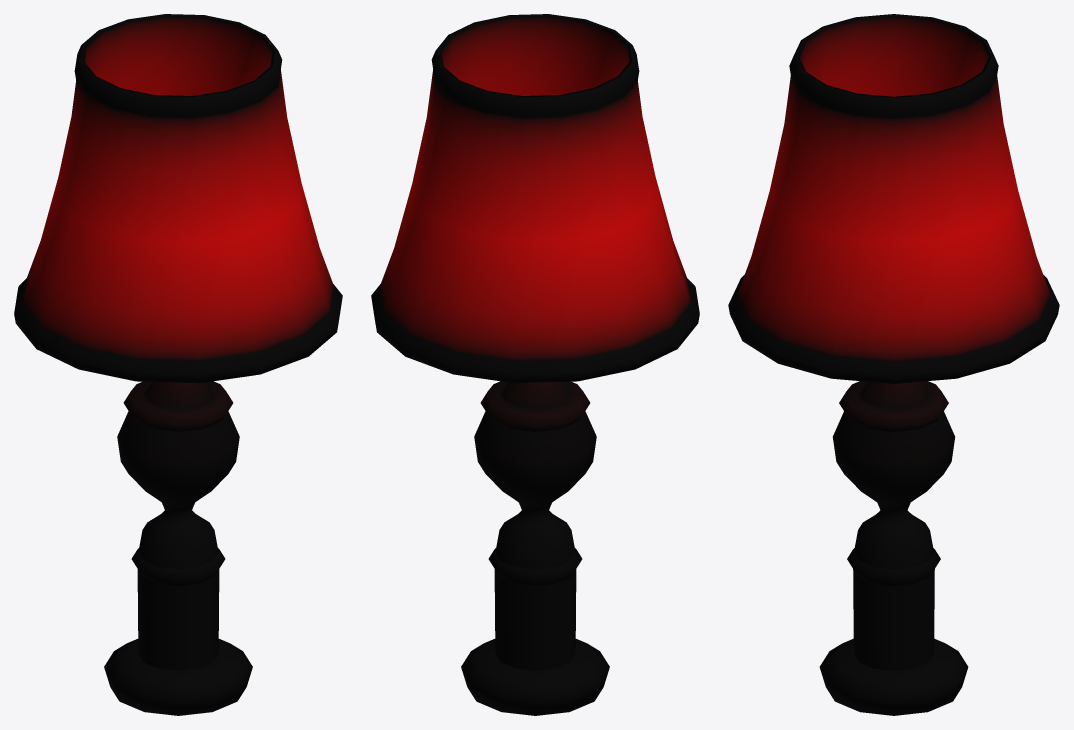
The model's file is SM_TableLamp.fbx.
3 renders of one model, left to right at view 1: azimuth 30°, elevation 25°; view 2: azimuth 150°, elevation 25°; view 3: azimuth 270°, elevation 25°, orthographic.
Visible parts, largest first — view 1: SM_TableLamp; view 2: SM_TableLamp; view 3: SM_TableLamp.
Boxes of the visible parts, bbox=[...] form: SM_TableLamp: bbox=[14, 14, 342, 715]; SM_TableLamp: bbox=[371, 14, 699, 715]; SM_TableLamp: bbox=[728, 14, 1059, 715].
Size of the model in its own units: 69.62 by 146 by 69.62.
